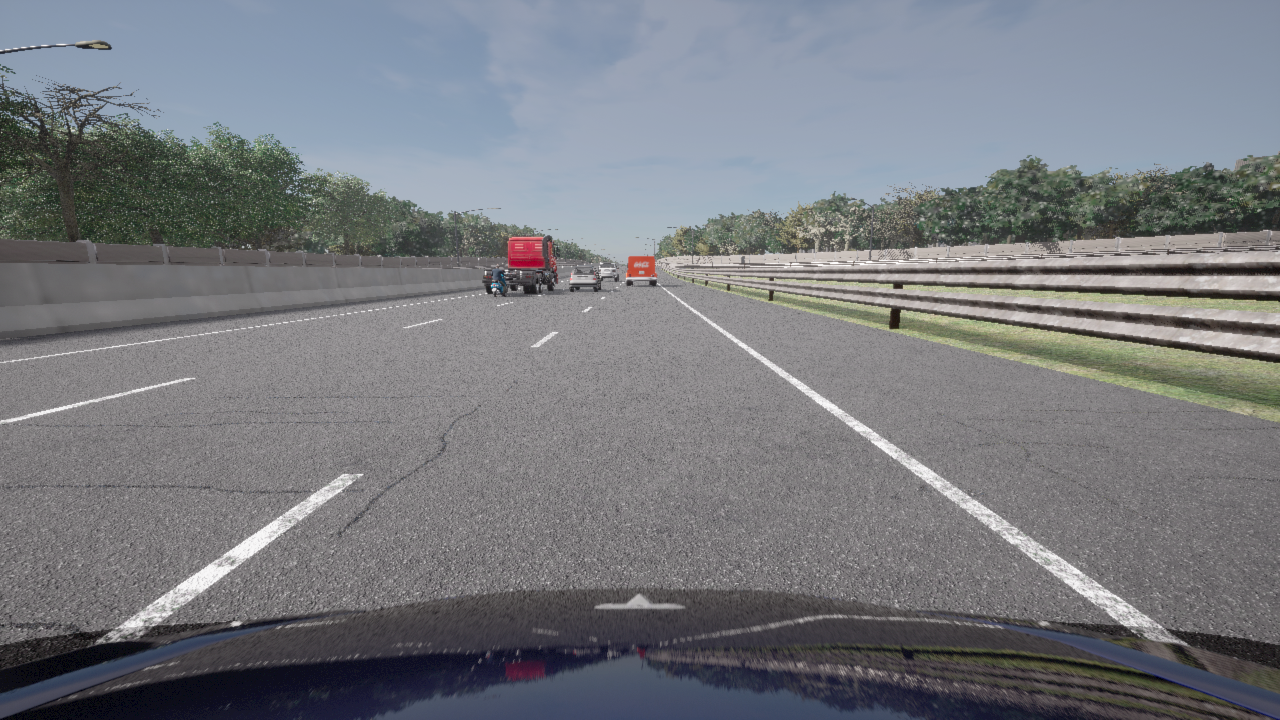cyclist: (0, 588, 1279, 719), (482, 235, 559, 293), (626, 256, 656, 285), (569, 265, 601, 291), (491, 272, 507, 296), (598, 263, 619, 281)
